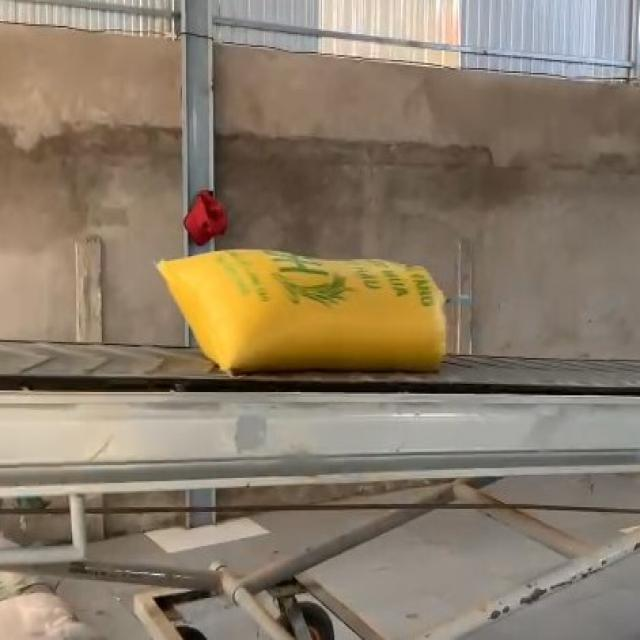gunny_bag: (158, 250, 447, 372)
